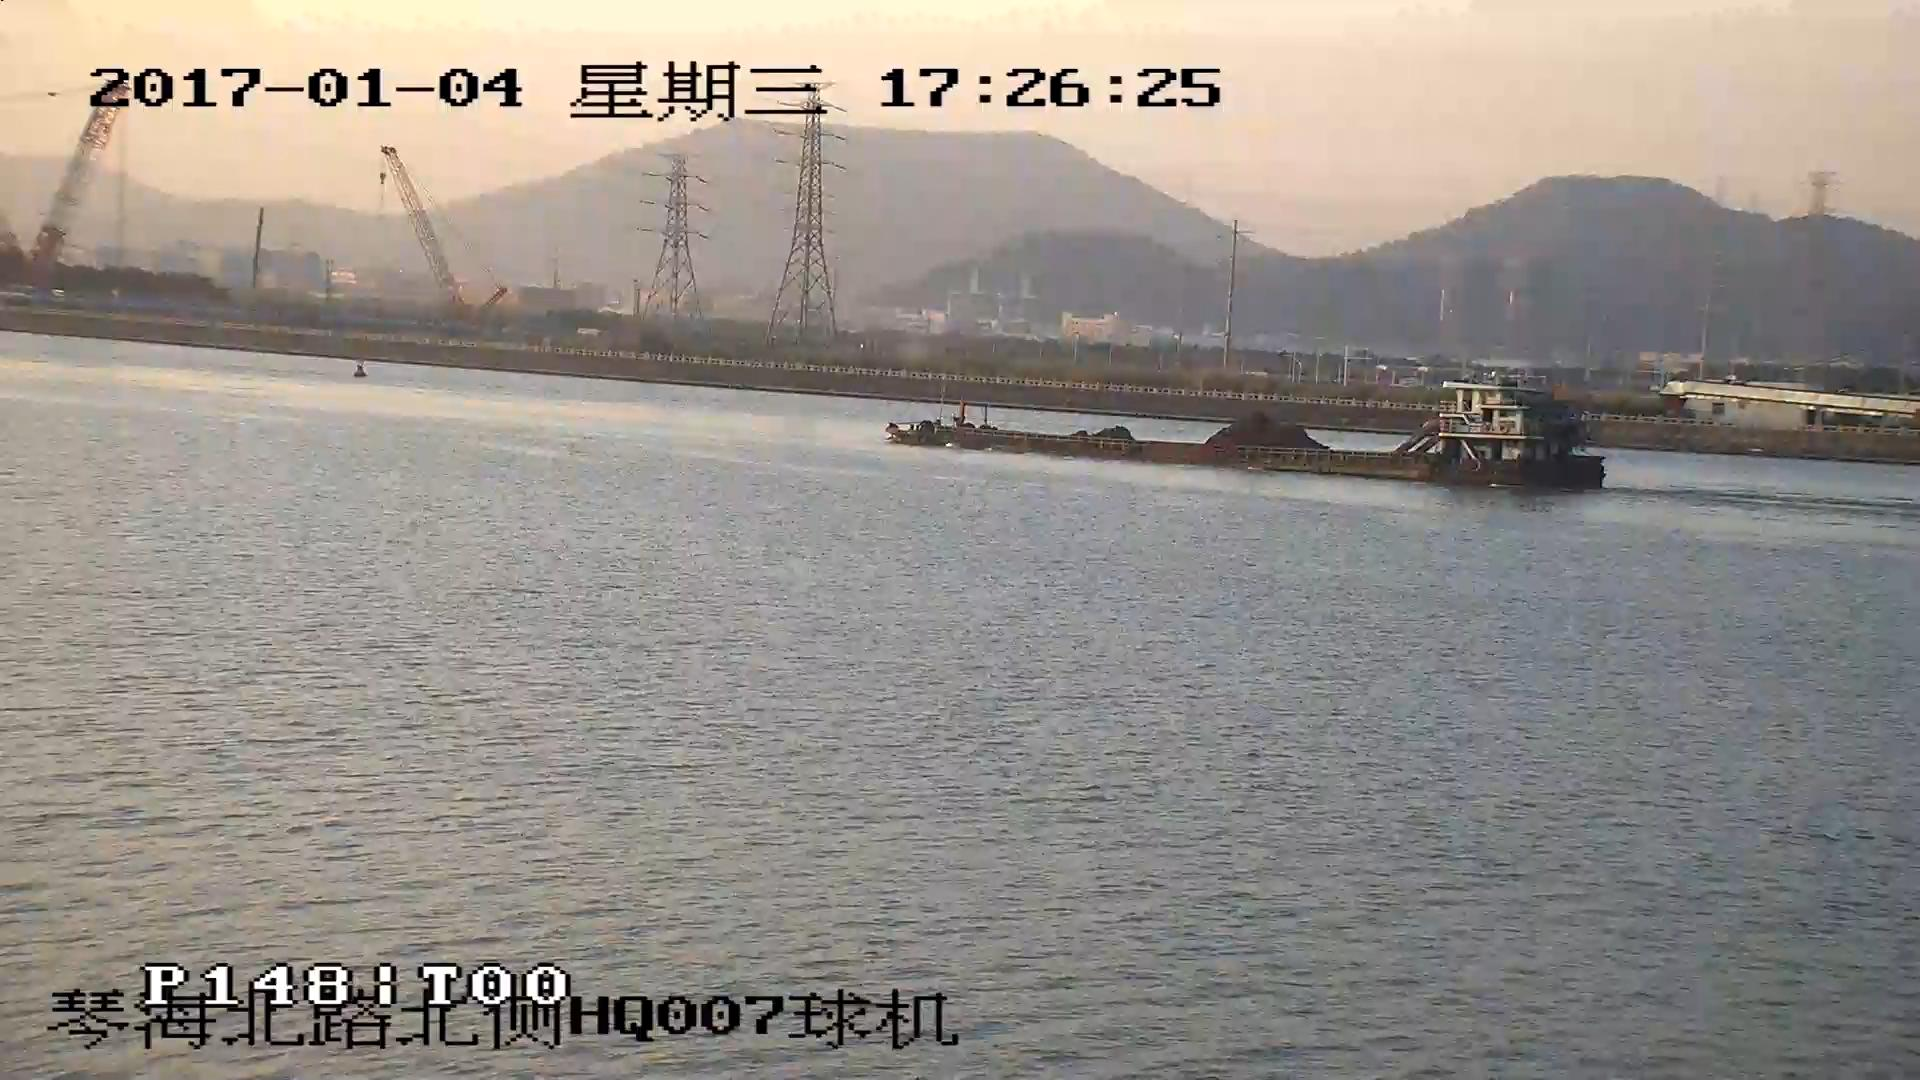ore carrier: (883, 381, 1605, 489)
